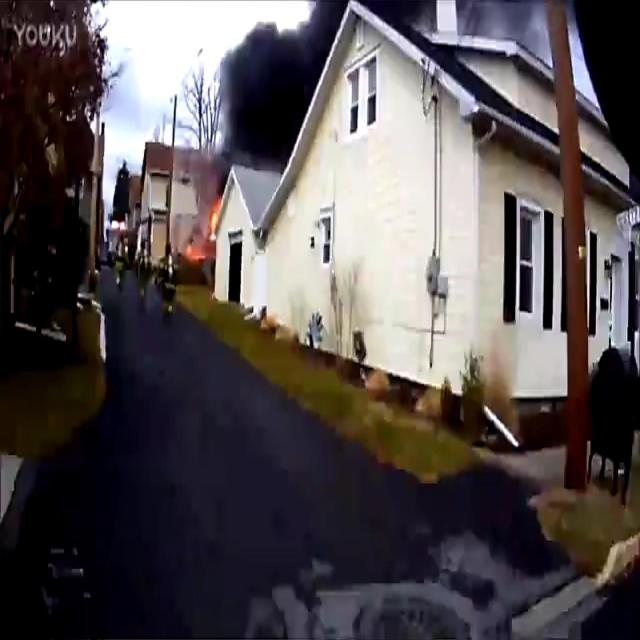fire: (183, 198, 220, 260)
smoke: (212, 0, 343, 168)
